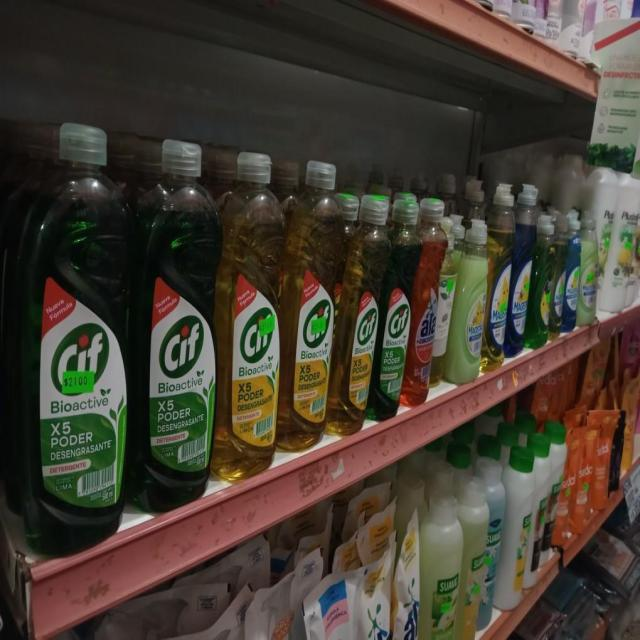cif_conc_bot_amarilla: (217, 150, 280, 480), (282, 157, 334, 453), (334, 183, 378, 435)
cif_conc_botella_verde: (7, 118, 132, 556), (132, 136, 216, 515)
magistral_con_amarillo: (487, 181, 509, 364)
magistral_con_azul: (511, 181, 531, 358), (564, 208, 579, 332)
